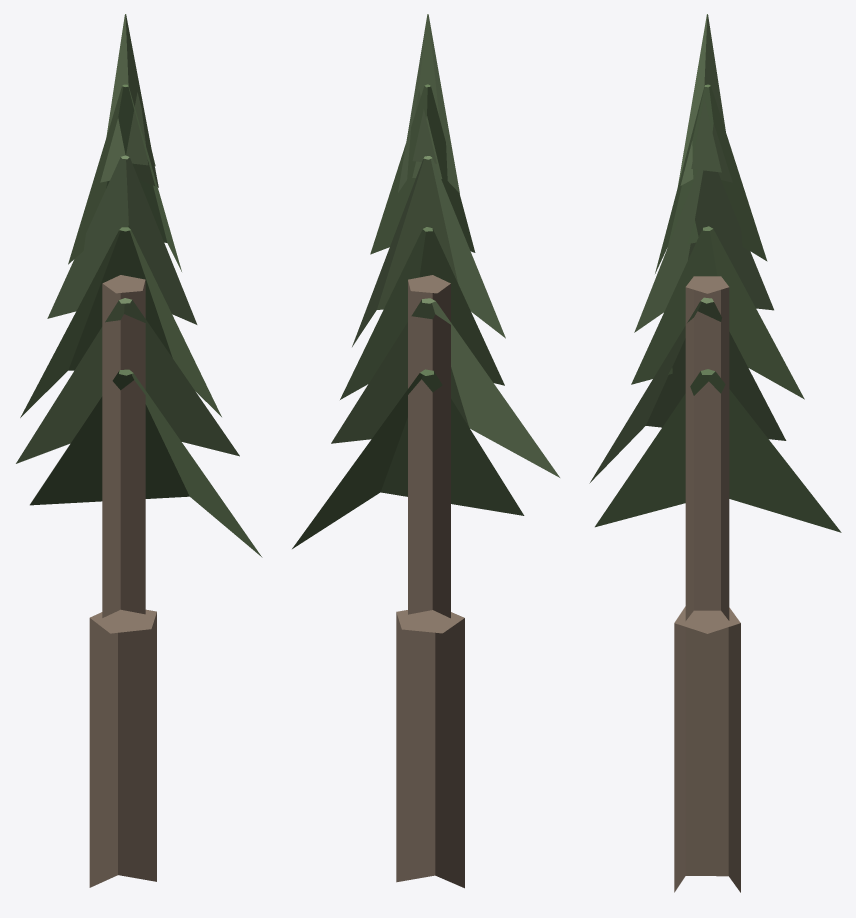
The model's file is tree.temp.larch__summer.glb.
3 renders of one model, left to right at view 1: azimuth 30°, elevation 25°; view 2: azimuth 150°, elevation 25°; view 3: azimuth 270°, elevation 25°, orthographic.
Parts seen in each view (by area): view 1: tree.temp.larch__summer; view 2: tree.temp.larch__summer; view 3: tree.temp.larch__summer.
Boxes of the visible parts, x1,y1,x2,y2 form: tree.temp.larch__summer: (16,14,262,887); tree.temp.larch__summer: (292,14,559,888); tree.temp.larch__summer: (589,14,841,892).
Size of the model in its own units: 5.35 by 21.05 by 5.51.
